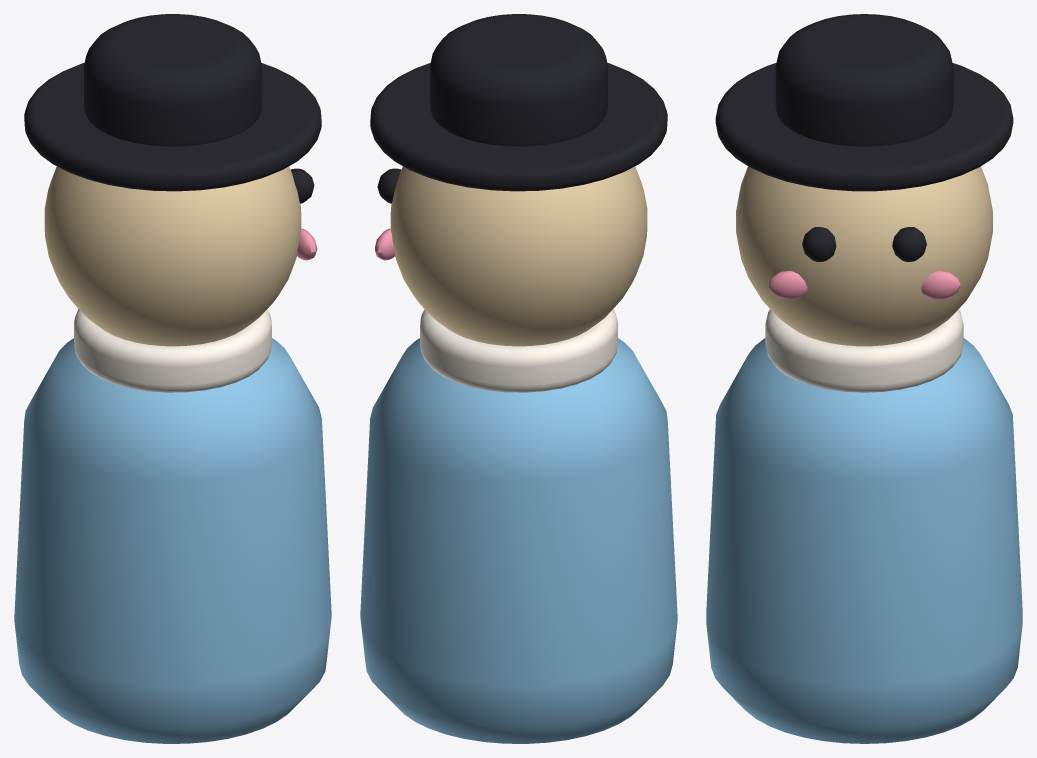
The model's file is peg_c.glb.
The picture shows the model from 3 angles, left to right: view 1: azimuth 30°, elevation 25°; view 2: azimuth 150°, elevation 25°; view 3: azimuth 270°, elevation 25°; orthographic projection.
Parts seen in each view (by area): view 1: peg_c; view 2: peg_c; view 3: peg_c.
Part boxes in pixels (left/top/right/bottom): peg_c: left=14, top=14, right=331, bottom=743; peg_c: left=360, top=14, right=677, bottom=743; peg_c: left=706, top=14, right=1022, bottom=743.
Bounding box in the file's own units: 0.32 × 0.72 × 0.3189.
Materials: 1 (1 with a texture image).
